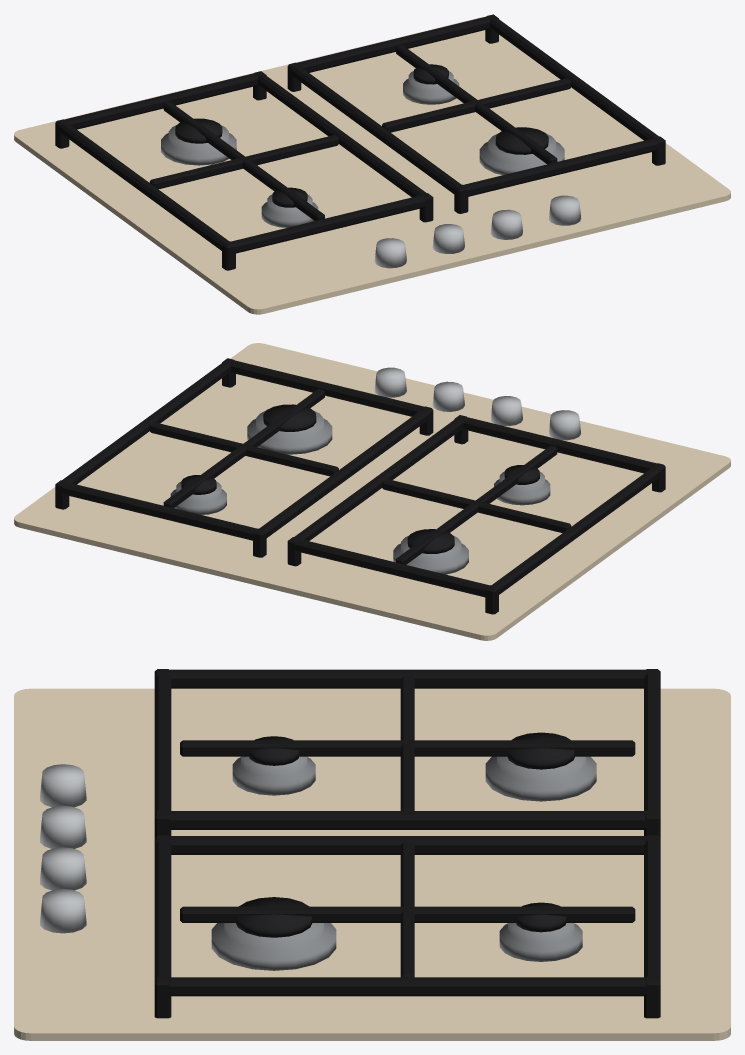
The model's file is a_hob_gas4g_3.glb.
3 views of the same model, one above another, from view 1: azimuth 30°, elevation 25°; view 2: azimuth 150°, elevation 25°; view 3: azimuth 270°, elevation 25° (orthographic). The views are drawn at different scales.
Parts seen in each view (by area): view 1: o, o.006, o.019, o.005, o.020, o.021, o.008, o.022, o.007, o.010, o.024, o.009 (+11 smaller); view 2: o, o.008, o.019, o.022, o.005, o.020, o.006, o.021, o.007, o.024, o.010, o.009 (+11 smaller); view 3: o, o.021, o.005, o.007, o.019, o.009, o.023, o.017, o.001, o.003, o.020, o.015 (+14 smaller).
Part boxes in pixels (box(x1,y1,x2,y2)): o: box(14, 17, 730, 314); o.006: box(223, 194, 431, 253); o.019: box(288, 63, 466, 196); o.005: box(56, 120, 234, 253); o.020: box(456, 137, 661, 196); o.021: box(488, 15, 663, 148); o.008: box(59, 72, 262, 129); o.022: box(292, 15, 493, 72); o.007: box(256, 71, 430, 204); o.010: box(149, 135, 338, 189); o.024: box(382, 78, 571, 132); o.009: box(163, 101, 324, 220); o: box(14, 343, 730, 640); o.008: box(290, 539, 495, 597); o.019: box(254, 407, 432, 540); o.022: box(62, 482, 265, 540); o.005: box(486, 466, 665, 597); o.020: box(225, 359, 431, 418); o.006: box(458, 415, 664, 474); o.021: box(57, 360, 231, 492); o.007: box(289, 417, 463, 549); o.024: box(149, 422, 338, 476); o.010: box(382, 479, 571, 532); o.009: box(396, 445, 557, 564); o: box(14, 688, 730, 1040); o.021: box(158, 977, 656, 996); o.005: box(158, 669, 656, 688); o.007: box(158, 811, 656, 829); o.019: box(158, 836, 656, 854); o.009: box(180, 740, 635, 756); o.023: box(180, 906, 635, 922); o.017: box(211, 905, 336, 970); o.001: box(485, 756, 596, 801); o.003: box(232, 756, 315, 795); o.020: box(154, 836, 171, 994); o.015: box(499, 923, 582, 961).
Bounding box in the file's own units: 0.58 × 0.034 × 0.51.
